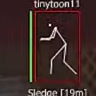hacks_3: (27, 1, 87, 96)
